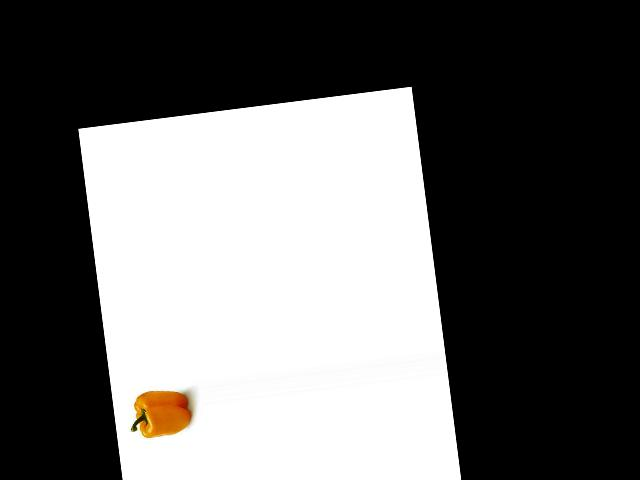bell_pepper: (123, 386, 194, 446)
